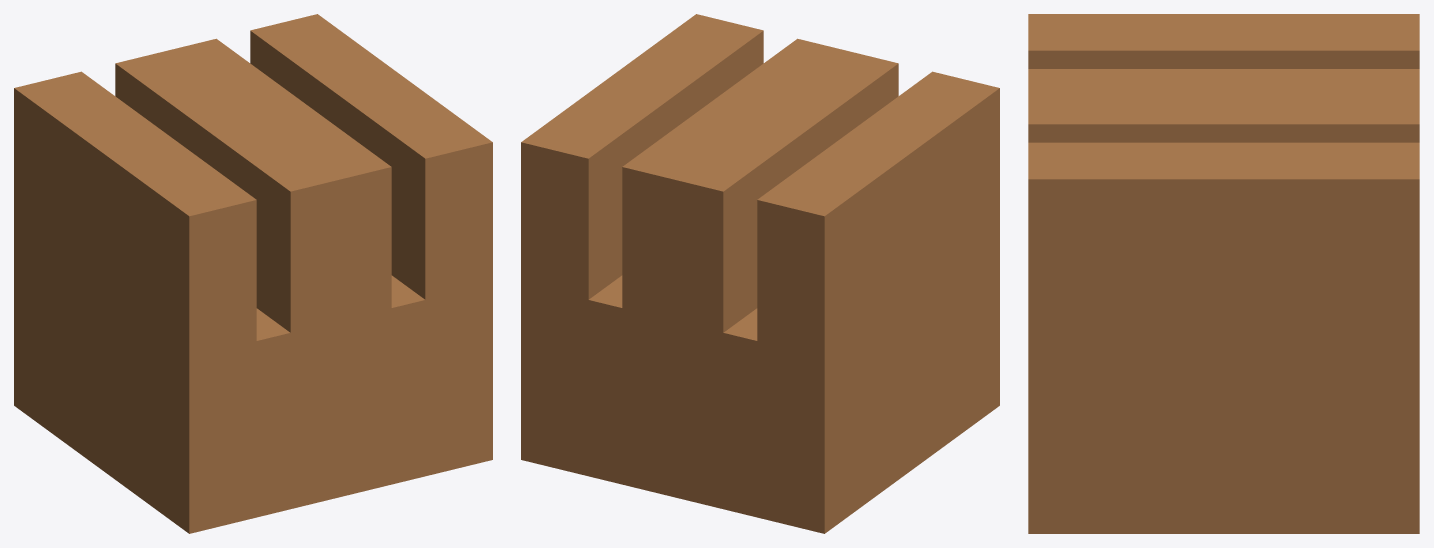
Rendered from Thin_Straight_2S_Model.fbx.
3 views of the same model, side by side, from view 1: azimuth 30°, elevation 25°; view 2: azimuth 150°, elevation 25°; view 3: azimuth 270°, elevation 25° (orthographic). The views are drawn at different scales.
Parts seen in each view (by area): view 1: Cube; view 2: Cube; view 3: Cube.
Part boxes in pixels (x1,y1,x2,y2): Cube: [14, 14, 492, 533]; Cube: [521, 14, 999, 533]; Cube: [1028, 14, 1419, 533].
Size of the model in its own units: 100 by 100 by 100.
